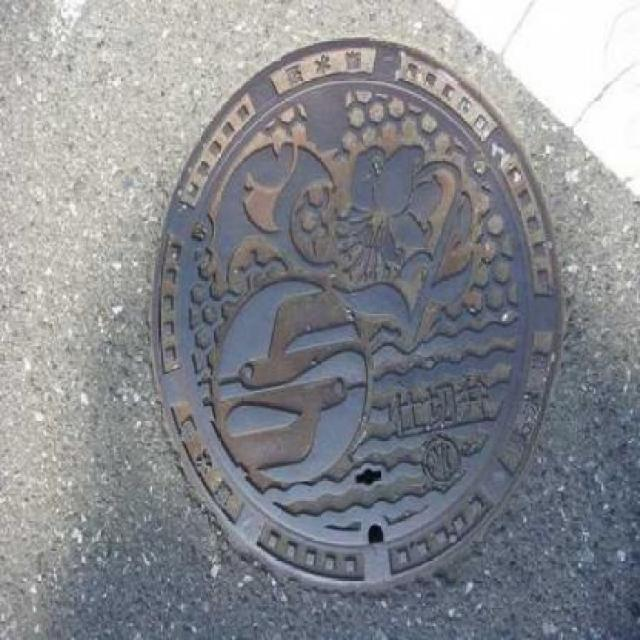Manhole: (140, 28, 574, 604)
